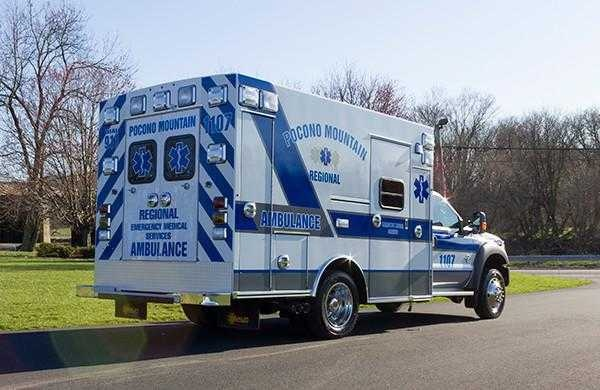Ambulance: (75, 63, 523, 321)
